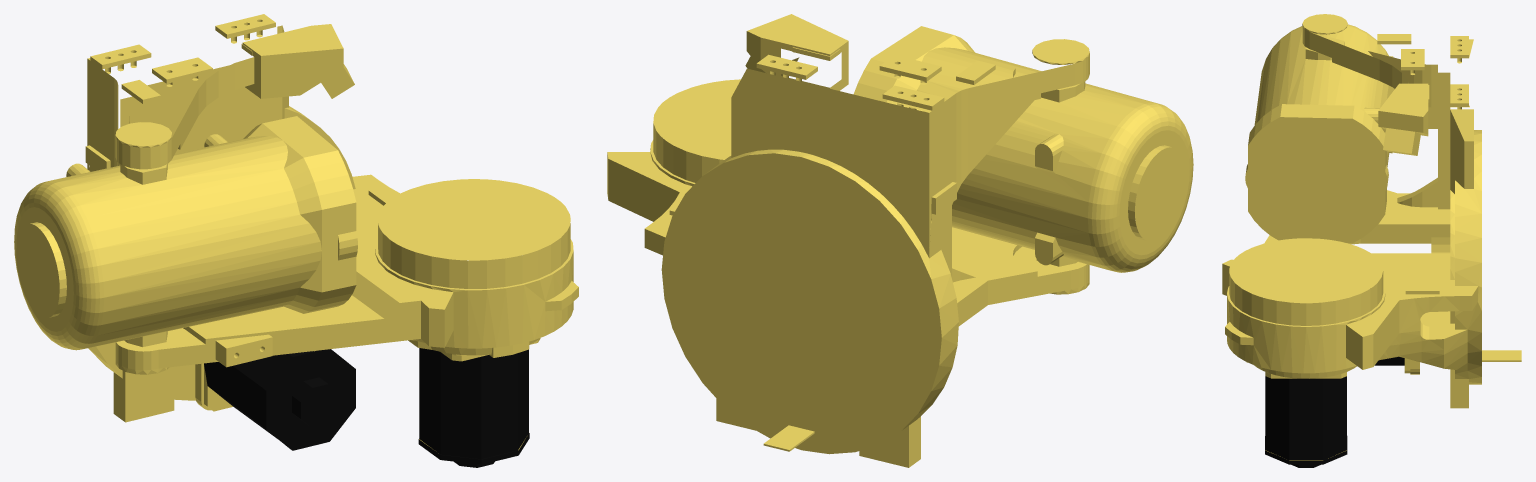
3 renders of one model, left to right at view 1: azimuth 30°, elevation 25°; view 2: azimuth 150°, elevation 25°; view 3: azimuth 270°, elevation 25°, orthographic. The views are drawn at different scales.
Parts seen in each view (by area): view 1: /Link1/Link1_003-mesh/0, /Link1/Link1_003-mesh/1; view 2: /Link1/Link1_003-mesh/0; view 3: /Link1/Link1_003-mesh/0, /Link1/Link1_003-mesh/1.
Part boxes in pixels (x1=…): /Link1/Link1_003-mesh/0: x1=14, y1=14, x2=578, y2=450; /Link1/Link1_003-mesh/1: x1=204, y1=348, x2=529, y2=467; /Link1/Link1_003-mesh/0: x1=607, y1=14, x2=1193, y2=467; /Link1/Link1_003-mesh/0: x1=1222, y1=14, x2=1521, y2=460; /Link1/Link1_003-mesh/1: x1=1265, y1=356, x2=1404, y2=467.
Bounding box in the file's own units: 1.03 × 0.7371 × 0.6322.
